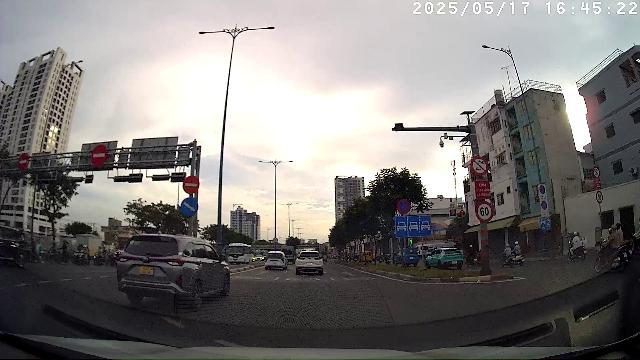102-cam-di-nguoc-chieu: (91, 144, 107, 168), (182, 175, 200, 194), (18, 152, 28, 171)
127-toc-do-toi-da-50: (595, 190, 603, 204)
127-toc-do-toi-da-60: (475, 200, 494, 222)
130-cam-dung-va-do-xe: (396, 199, 411, 214)
302a-huong-phai-di-vong-chuong-ngai-vat-1: (180, 197, 198, 217)
